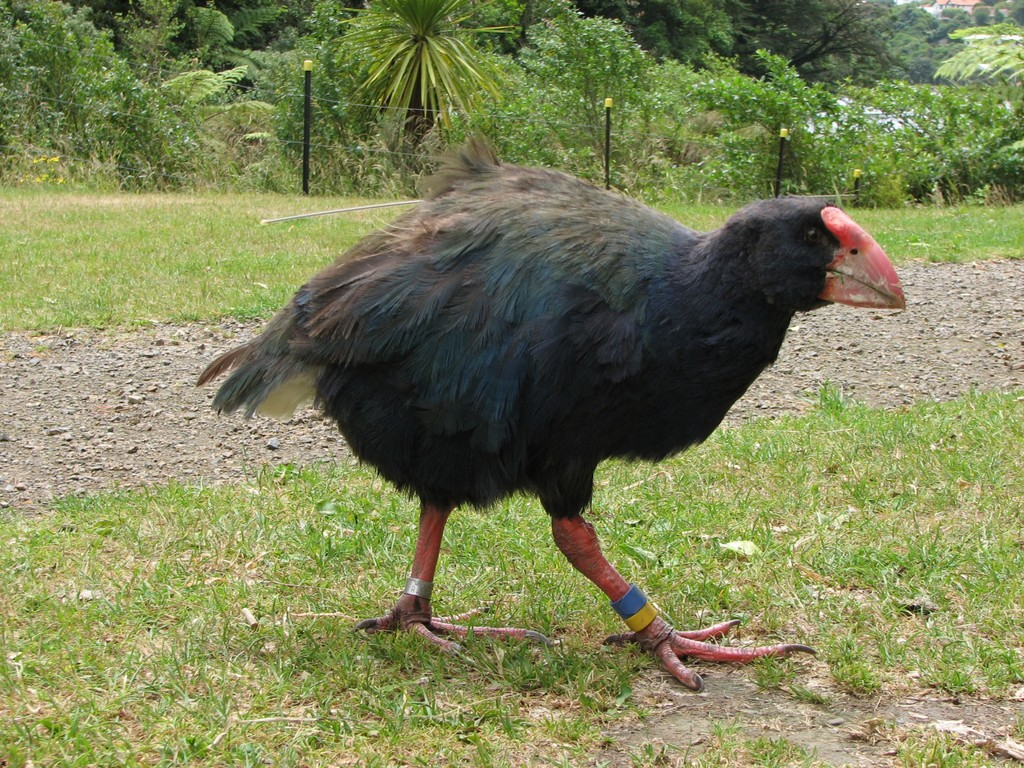Bird: (195, 136, 906, 690)
